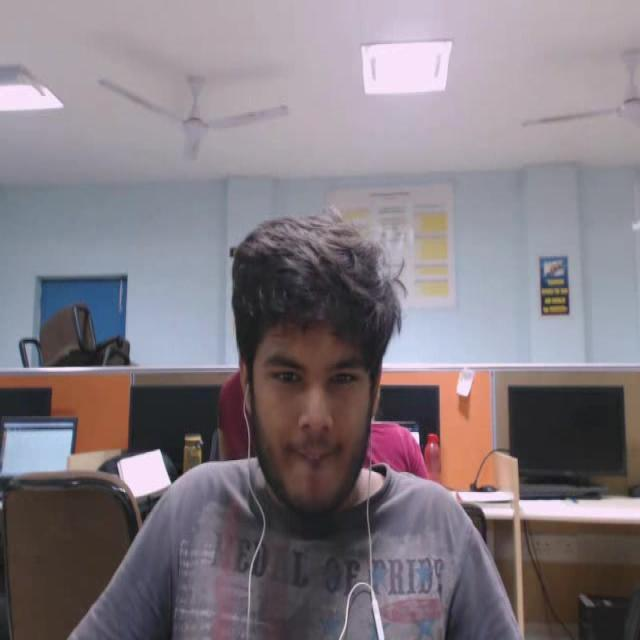Bored: (202, 190, 416, 578)
